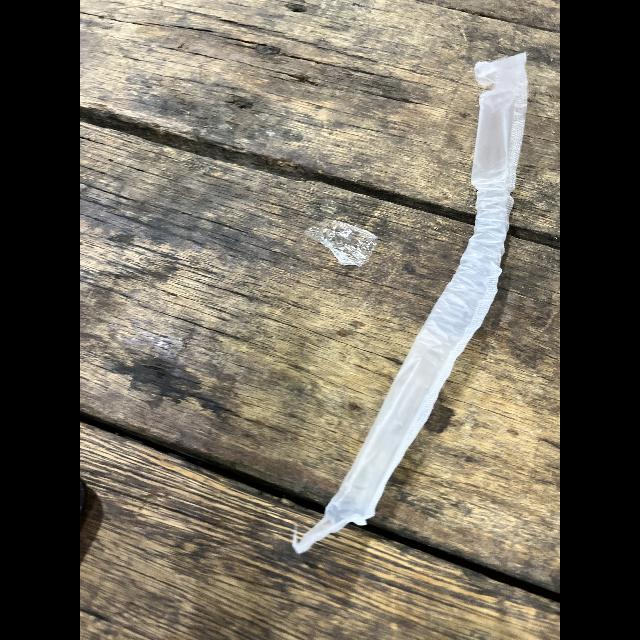scrap_plastic: (288, 48, 530, 548)
